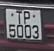0: (16, 23, 25, 40), (24, 23, 33, 40)
3: (32, 24, 40, 41)
5: (8, 23, 17, 40)
P: (23, 10, 32, 26)
T: (15, 10, 24, 26)
